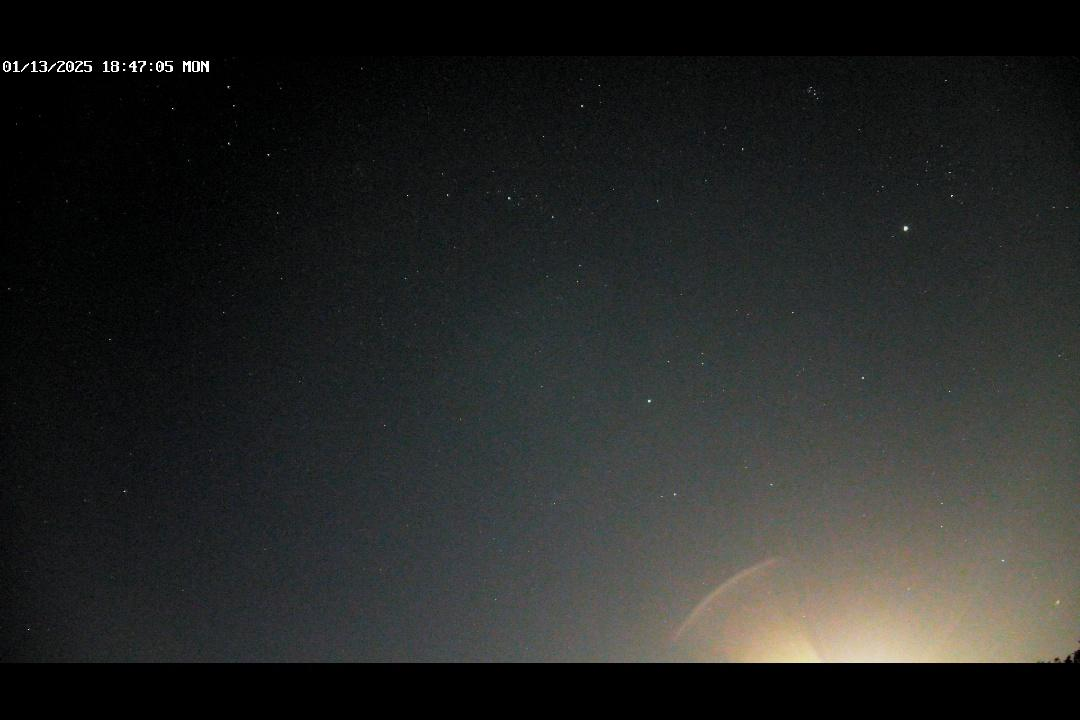Plane: (1032, 591, 1071, 626)
